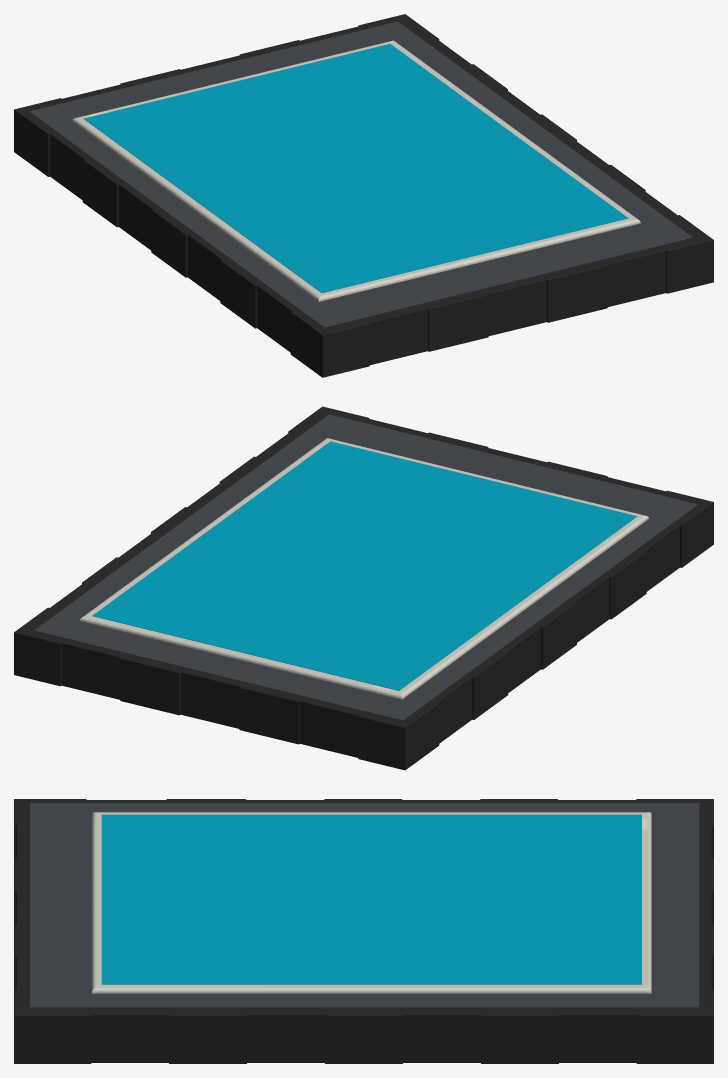
The model's file is kc-ea_ediptft57-xxx.glb.
The picture shows the model from 3 angles, top to bottom: view 1: azimuth 30°, elevation 25°; view 2: azimuth 150°, elevation 25°; view 3: azimuth 270°, elevation 25°; orthographic projection. The views are drawn at different scales.
Parts seen in each view (by area): view 1: 0_0.3333333333333333_0.5_0, 0_0_0_0, 0.08333333333333333_0.08333333333333333_0.08333333333333333_, 0.6666666666666666_0.6666666666666666_0.5833333333333334_0.8; view 2: 0_0.3333333333333333_0.5_0, 0_0_0_0, 0.08333333333333333_0.08333333333333333_0.08333333333333333_, 0.6666666666666666_0.6666666666666666_0.5833333333333334_0.8; view 3: 0_0.3333333333333333_0.5_0, 0_0_0_0, 0.08333333333333333_0.08333333333333333_0.08333333333333333_, 0.6666666666666666_0.6666666666666666_0.5833333333333334_0.8.
Boxes of the visible parts, left/top/right/bottom form: 0_0.3333333333333333_0.5_0: left=84, top=44, right=628, bottom=292; 0_0_0_0: left=14, top=14, right=713, bottom=377; 0.08333333333333333_0.08333333333333333_0.08333333333333333_: left=29, top=21, right=692, bottom=327; 0.6666666666666666_0.6666666666666666_0.5833333333333334_0.8: left=72, top=40, right=640, bottom=301; 0_0.3333333333333333_0.5_0: left=92, top=441, right=637, bottom=690; 0_0_0_0: left=14, top=406, right=713, bottom=770; 0.08333333333333333_0.08333333333333333_0.08333333333333333_: left=34, top=414, right=697, bottom=720; 0.6666666666666666_0.6666666666666666_0.5833333333333334_0.8: left=80, top=438, right=648, bottom=699; 0_0.3333333333333333_0.5_0: left=101, top=814, right=641, bottom=984; 0_0_0_0: left=14, top=799, right=713, bottom=1063; 0.08333333333333333_0.08333333333333333_0.08333333333333333_: left=30, top=803, right=699, bottom=1007; 0.6666666666666666_0.6666666666666666_0.5833333333333334_0.8: left=92, top=812, right=651, bottom=993.
Size of the model in its own units: 10.72 by 1.74 by 14.64.
